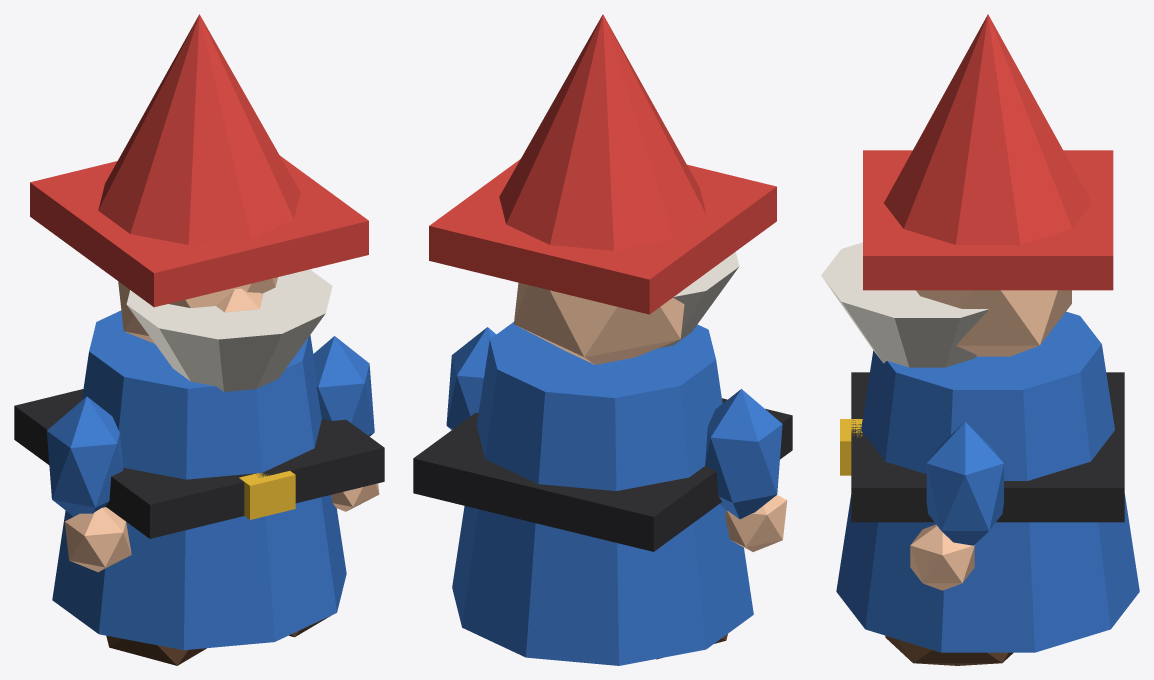
The model's file is gnome.glb.
3 views of the same model, side by side, from view 1: azimuth 30°, elevation 25°; view 2: azimuth 150°, elevation 25°; view 3: azimuth 270°, elevation 25° (orthographic). The views are drawn at different scales.
Visible parts, largest first — view 1: gnome; view 2: gnome; view 3: gnome.
Part boxes in pixels (x1=…): gnome: x1=14, y1=14, x2=384, y2=665; gnome: x1=413, y1=14, x2=792, y2=665; gnome: x1=821, y1=14, x2=1139, y2=665.
Bounding box in the file's own units: 0.4873 × 0.906 × 0.42.
